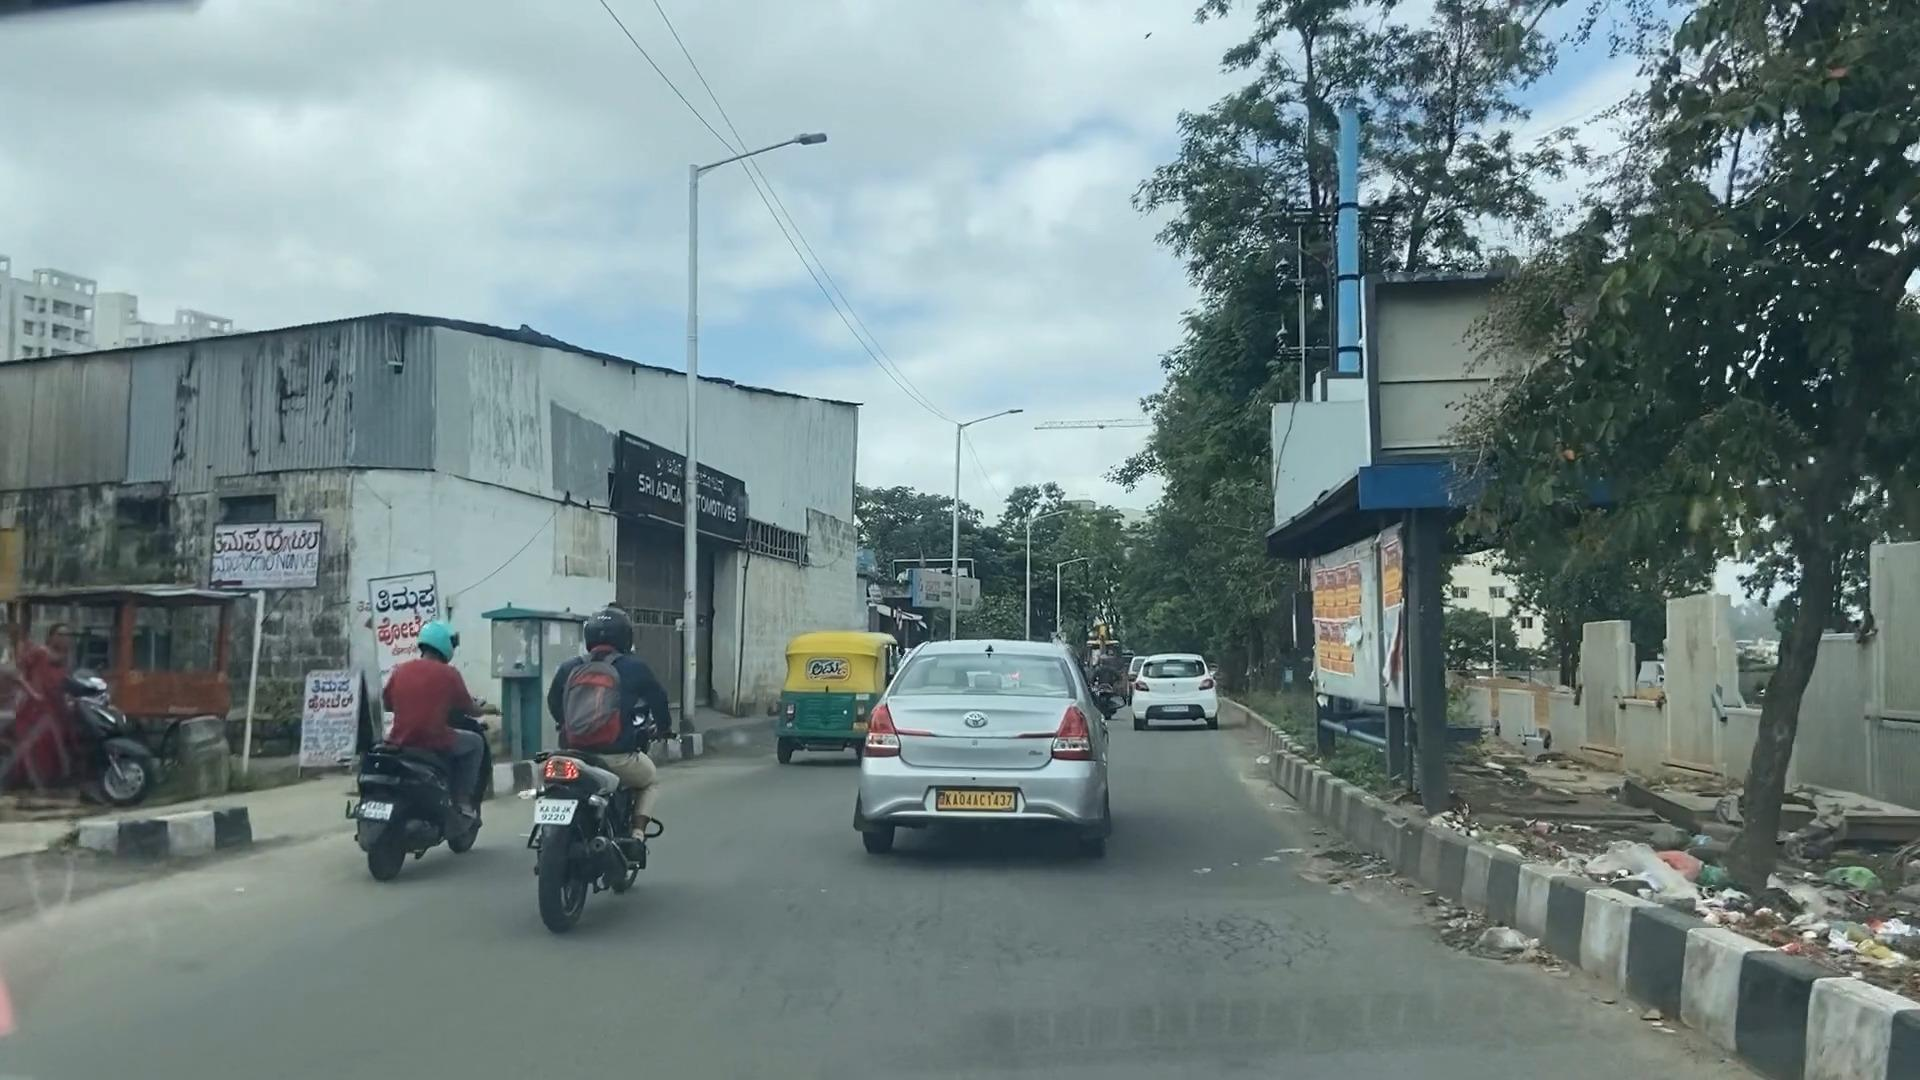LMV: (876, 670, 1098, 843), (372, 618, 468, 874), (570, 628, 647, 919), (782, 640, 856, 753), (1135, 654, 1221, 723)
